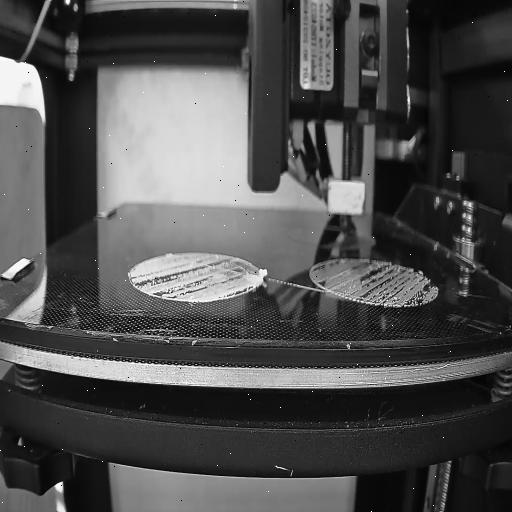under_extrusion: (132, 250, 260, 300), (350, 260, 436, 308), (313, 258, 341, 293)
